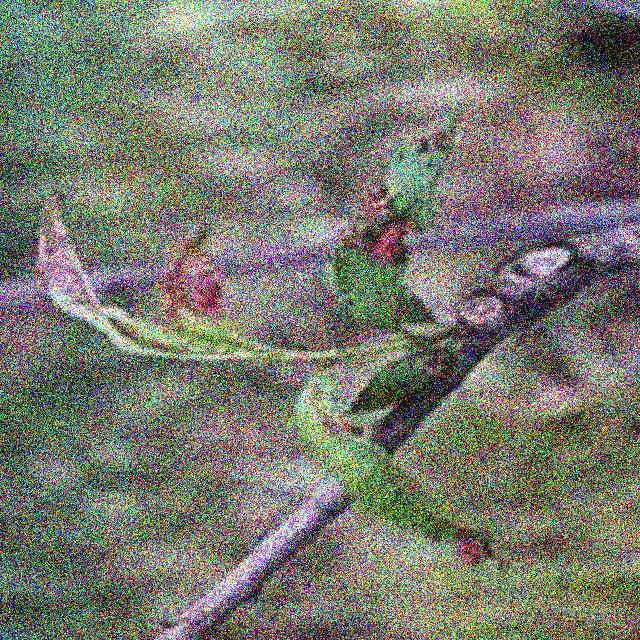leaf_curl: (26, 179, 265, 390)
